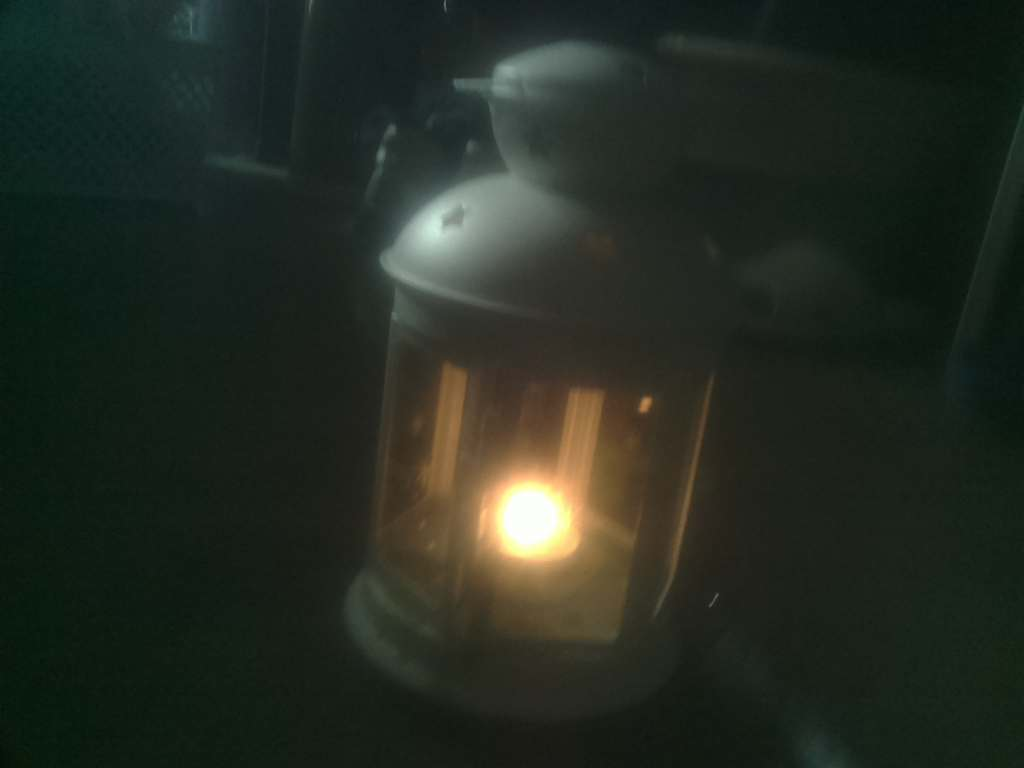fire: (483, 461, 602, 587)
